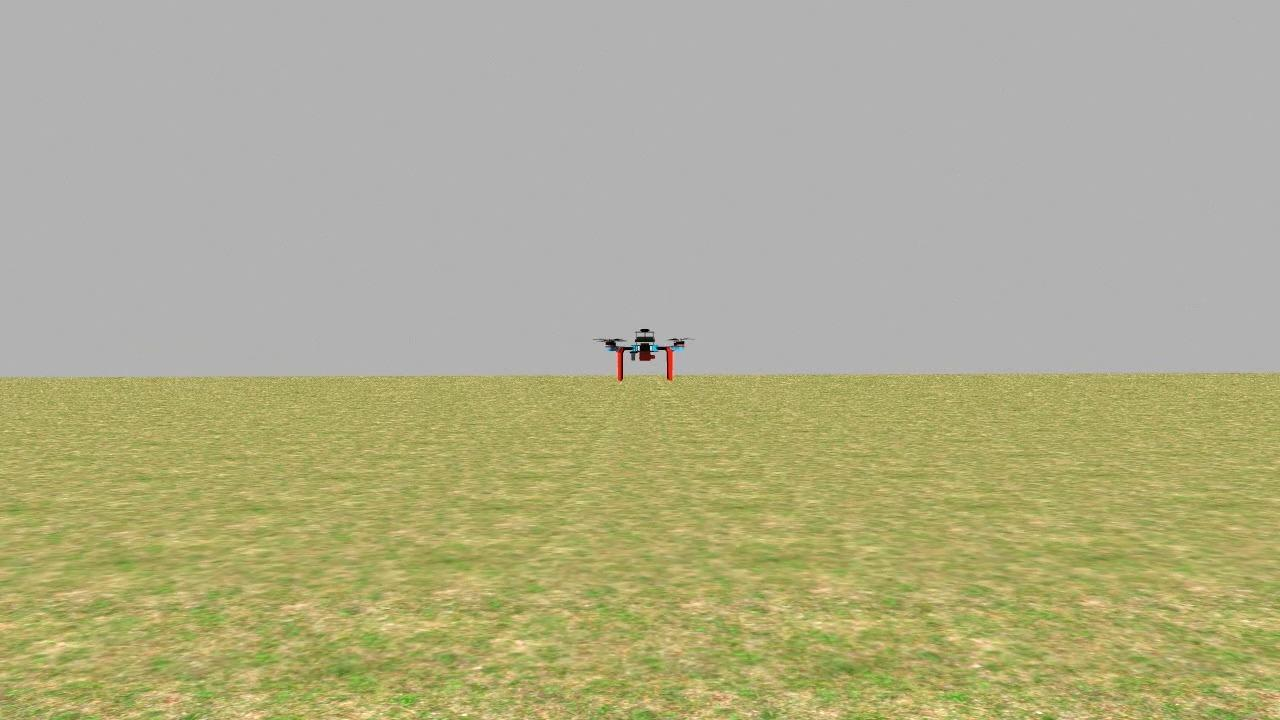UAV: (580, 311, 712, 386)
